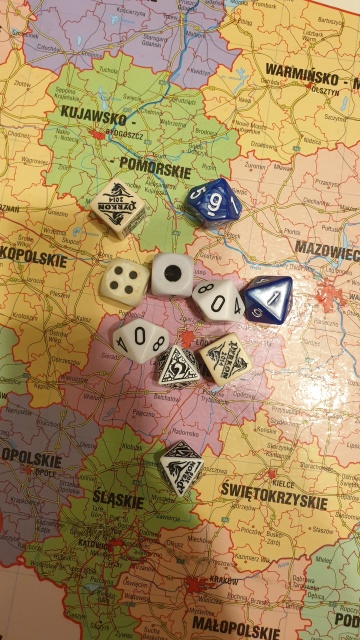d10-1: (246, 275, 296, 322)
d10-10: (105, 317, 175, 364), (193, 277, 242, 326)
d10-9: (183, 178, 246, 231)
d6-1: (151, 249, 194, 302)
d6-4: (101, 255, 146, 305)
d6p-1: (85, 179, 148, 232), (196, 332, 252, 387)
d8p-1: (158, 438, 201, 500)
d8p-2: (156, 344, 204, 394)
